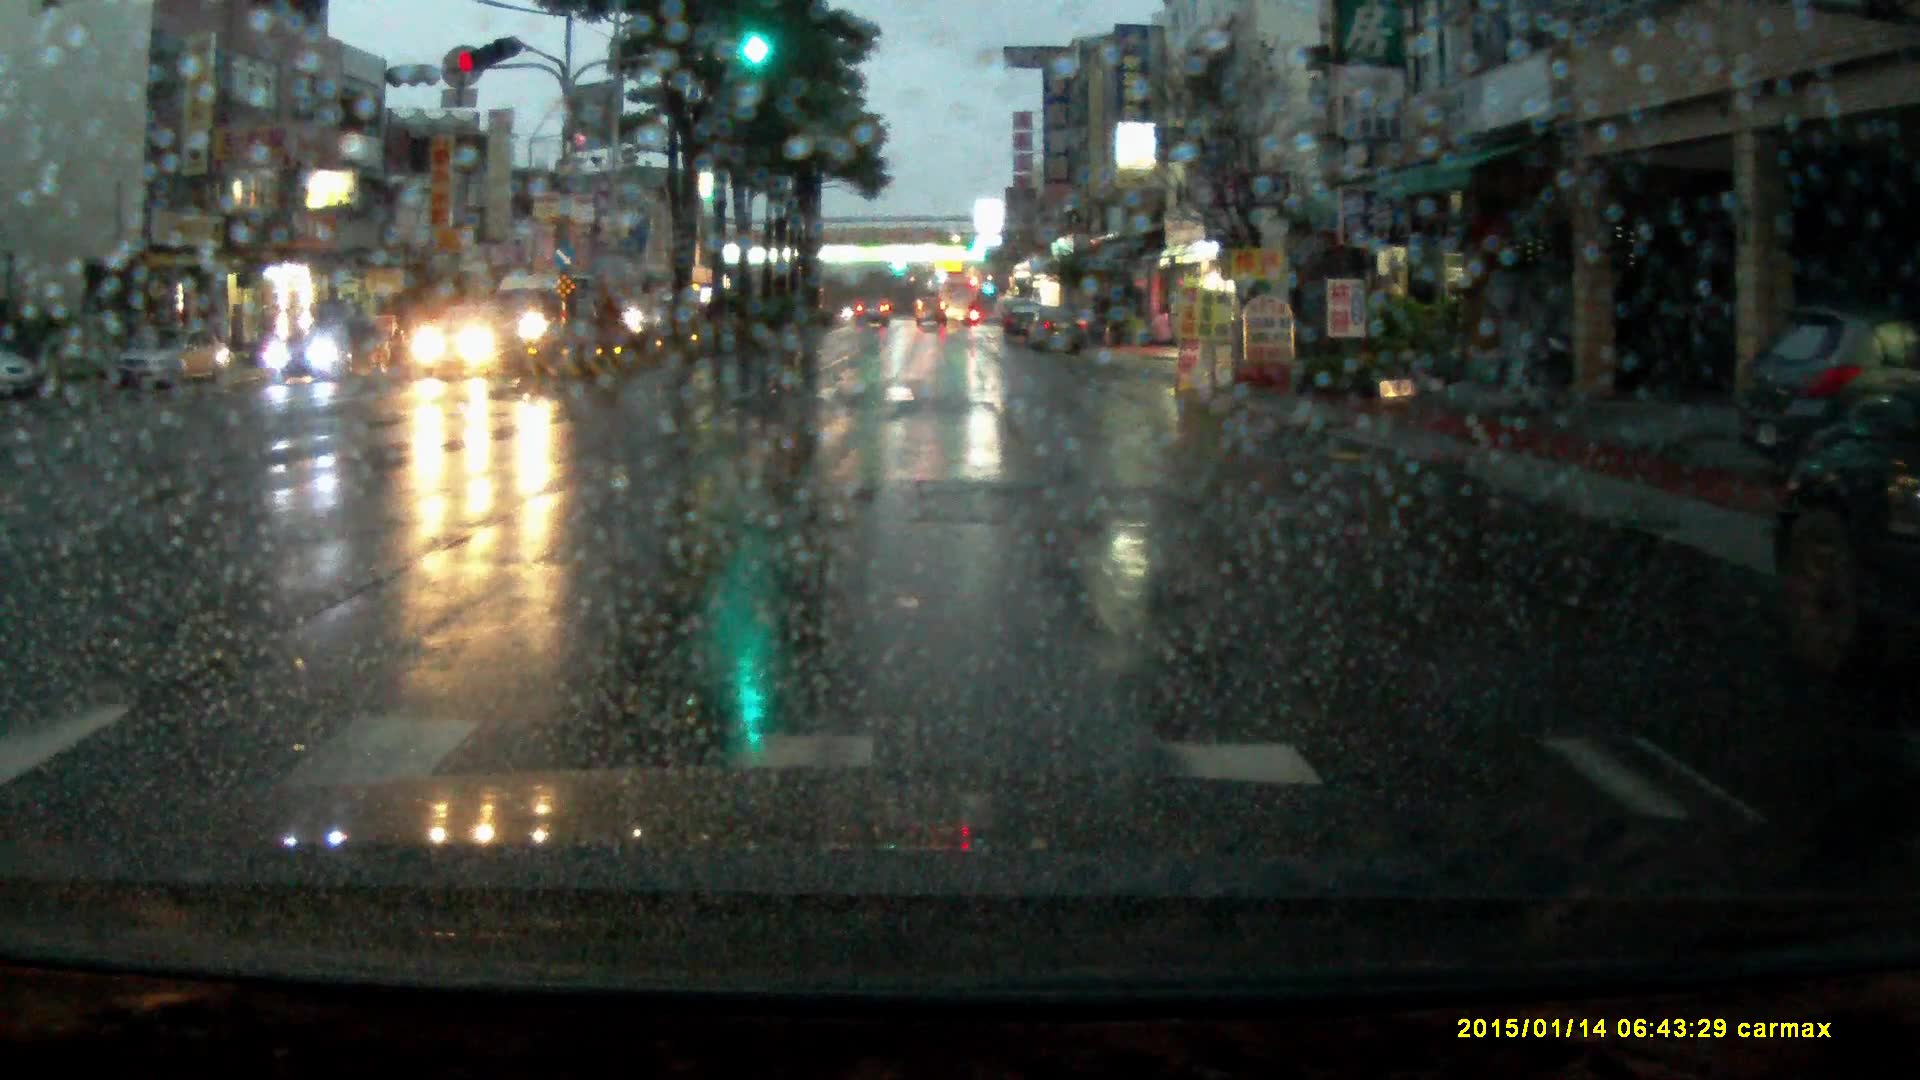vehicle: (1774, 371, 1920, 680), (1730, 309, 1916, 477), (479, 272, 597, 363), (265, 318, 400, 385), (113, 328, 233, 400), (417, 313, 530, 385), (1027, 306, 1095, 359), (1002, 302, 1044, 349), (942, 281, 981, 326), (1, 353, 36, 397), (855, 294, 891, 330), (916, 299, 948, 332)
